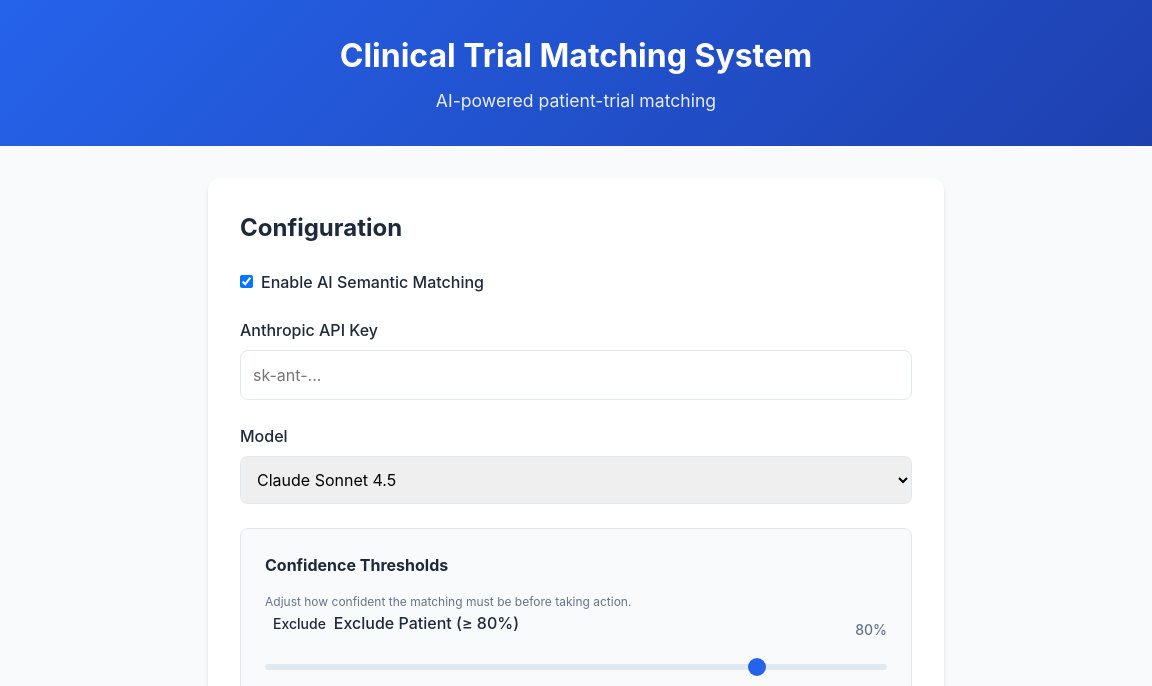
Test: App Component › Settings Panel › should hide API key input when AI is disabled
Click the checkbox labelled "Enable AI Semantic Matching" at (246,282), box [240,275,253,288]
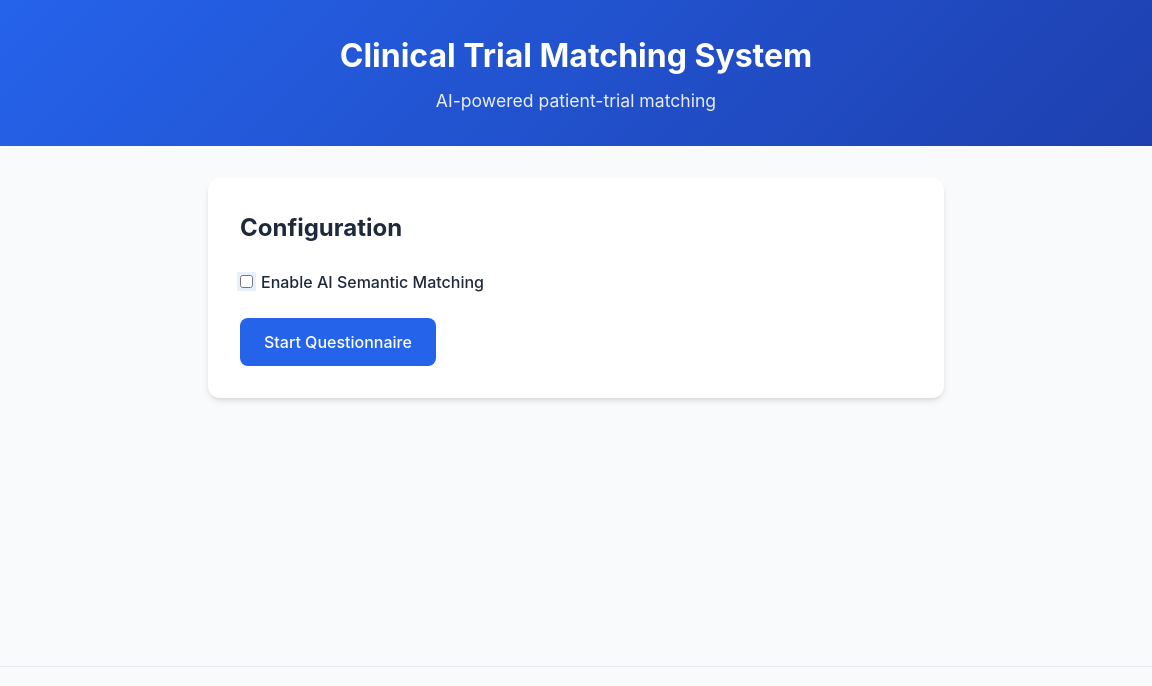
Result: the label labelled "Anthropic API Key" is gone
